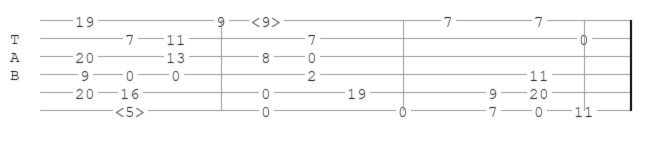0: (125, 67, 139, 81), (171, 67, 185, 81), (261, 103, 275, 117), (261, 85, 275, 99), (307, 49, 321, 63), (398, 103, 412, 117), (534, 103, 548, 117), (579, 31, 593, 45)
11: (166, 31, 190, 45), (529, 67, 553, 81), (574, 103, 598, 117)
13: (166, 49, 190, 63)
16: (120, 85, 144, 99)
19: (75, 13, 99, 27), (347, 85, 371, 99)
2: (307, 67, 321, 81)
20: (75, 49, 99, 63), (75, 85, 99, 99), (529, 85, 553, 99)
7: (125, 31, 139, 45), (307, 31, 321, 45), (443, 13, 457, 27), (488, 103, 502, 117), (534, 13, 548, 27)
8: (261, 49, 275, 63)
9: (80, 67, 94, 81), (216, 13, 230, 27), (488, 85, 502, 99)
harmonic: (115, 103, 149, 118), (251, 13, 285, 28)
